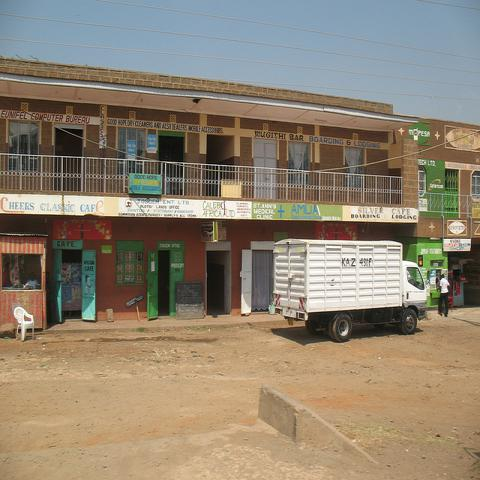truck: (271, 237, 429, 343)
